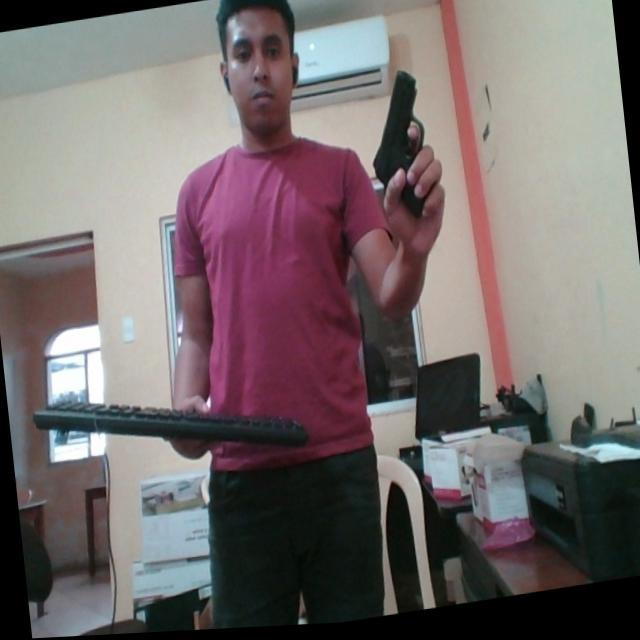weapon: (360, 69, 433, 224)
